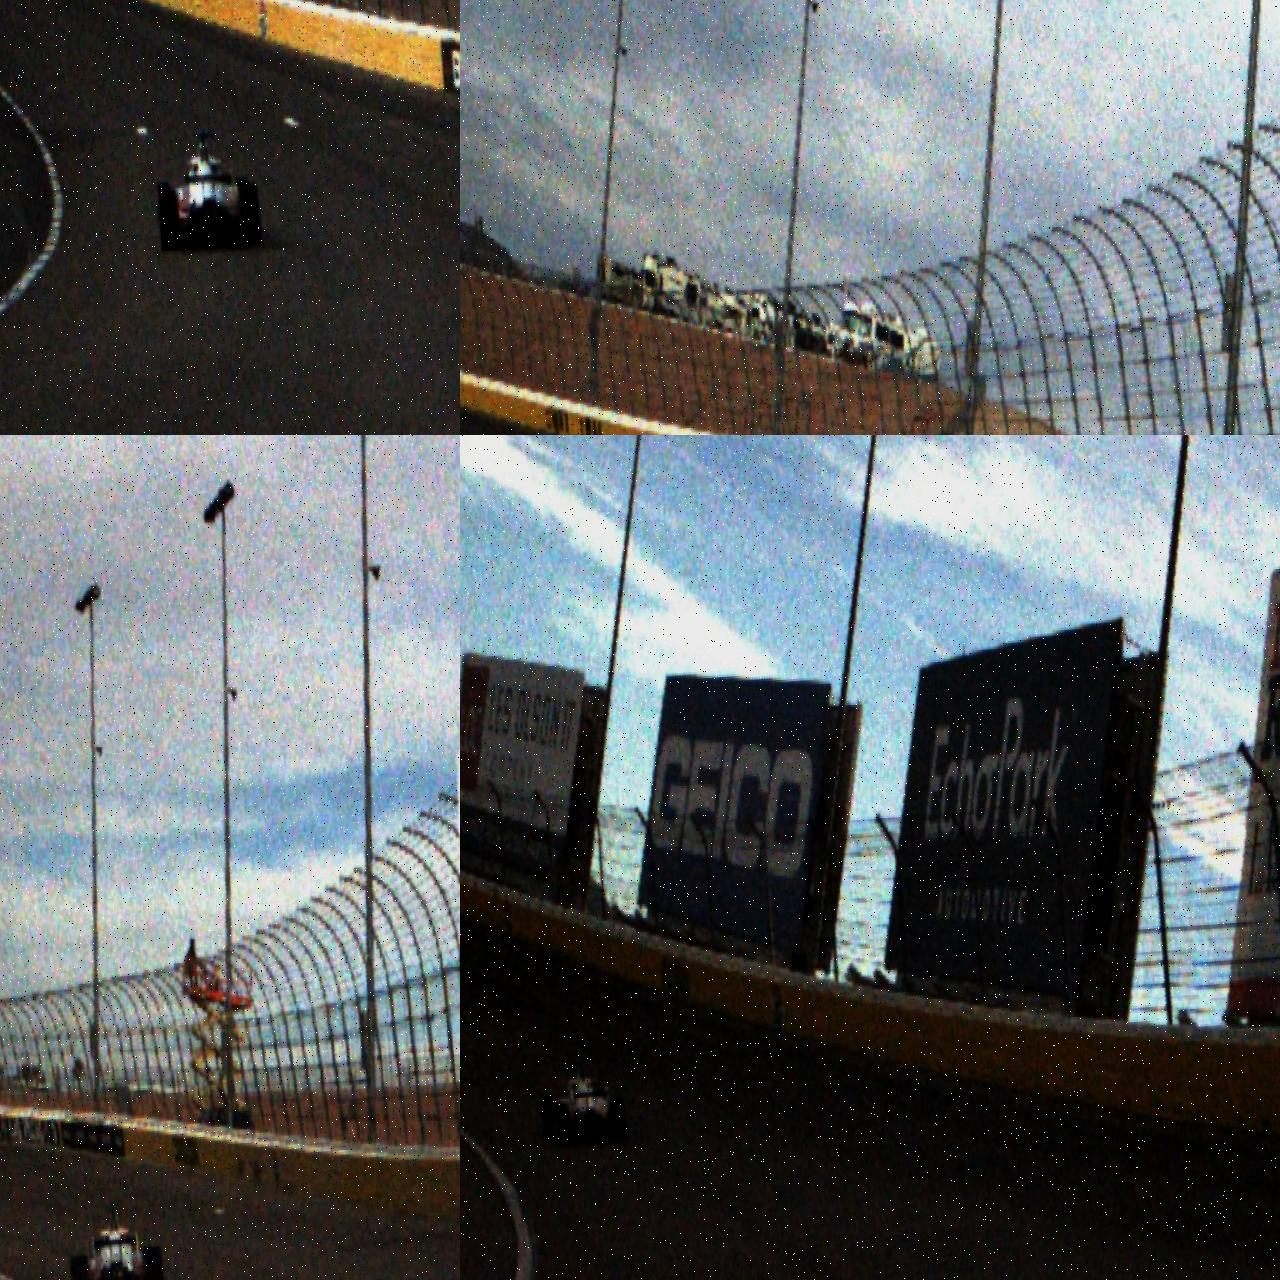AV: (152, 127, 263, 256), (66, 1201, 166, 1280), (537, 1061, 627, 1148)
Wheel: (157, 190, 182, 253), (239, 184, 263, 248), (552, 1102, 572, 1145), (143, 1244, 166, 1280), (610, 1096, 627, 1143), (539, 1095, 554, 1139), (70, 1254, 91, 1280)
